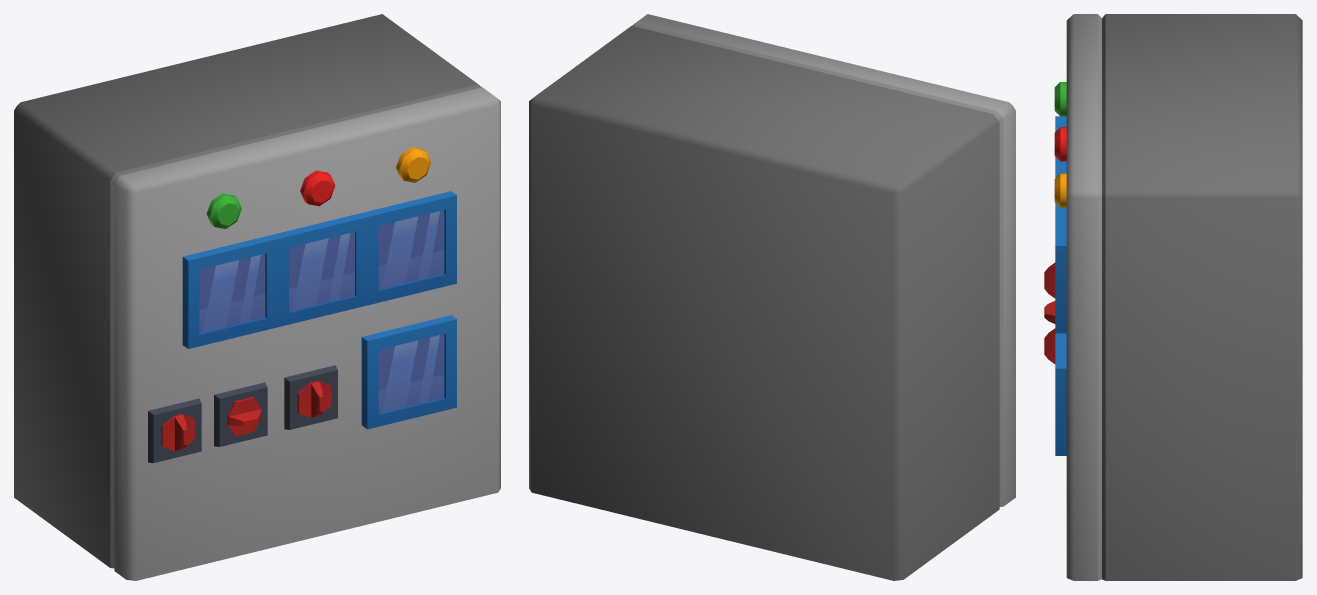
The model's file is ElectricBox_3_A_2.fbx.
3 views of the same model, side by side, from view 1: azimuth 30°, elevation 25°; view 2: azimuth 150°, elevation 25°; view 3: azimuth 270°, elevation 25° (orthographic).
Parts seen in each view (by area): view 1: ElectricBox_3_A_2; view 2: ElectricBox_3_A_2; view 3: ElectricBox_3_A_2.
Part boxes in pixels (x1,y1,x2,y2): ElectricBox_3_A_2: (14,14,500,580); ElectricBox_3_A_2: (529,14,1015,580); ElectricBox_3_A_2: (1044,14,1302,580).
Size of the model in its own units: 102 by 102 by 61.6.
